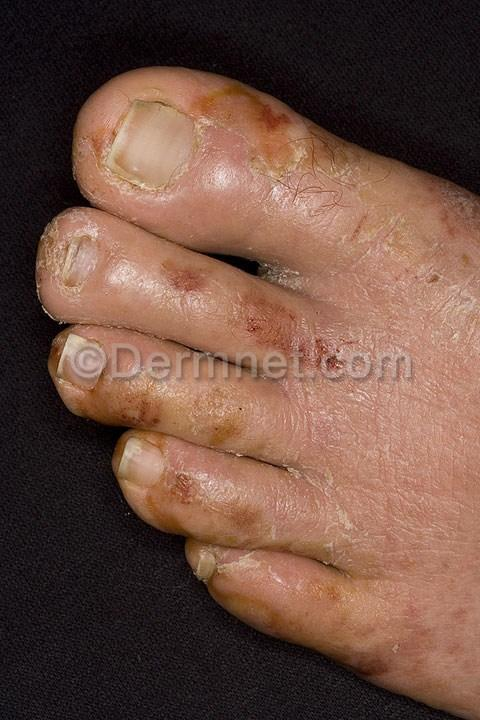Eczema: (190, 78, 289, 179), (335, 577, 413, 674), (253, 289, 332, 373), (110, 358, 175, 431), (153, 256, 216, 322), (169, 452, 225, 519), (204, 391, 262, 444), (225, 486, 273, 532)
